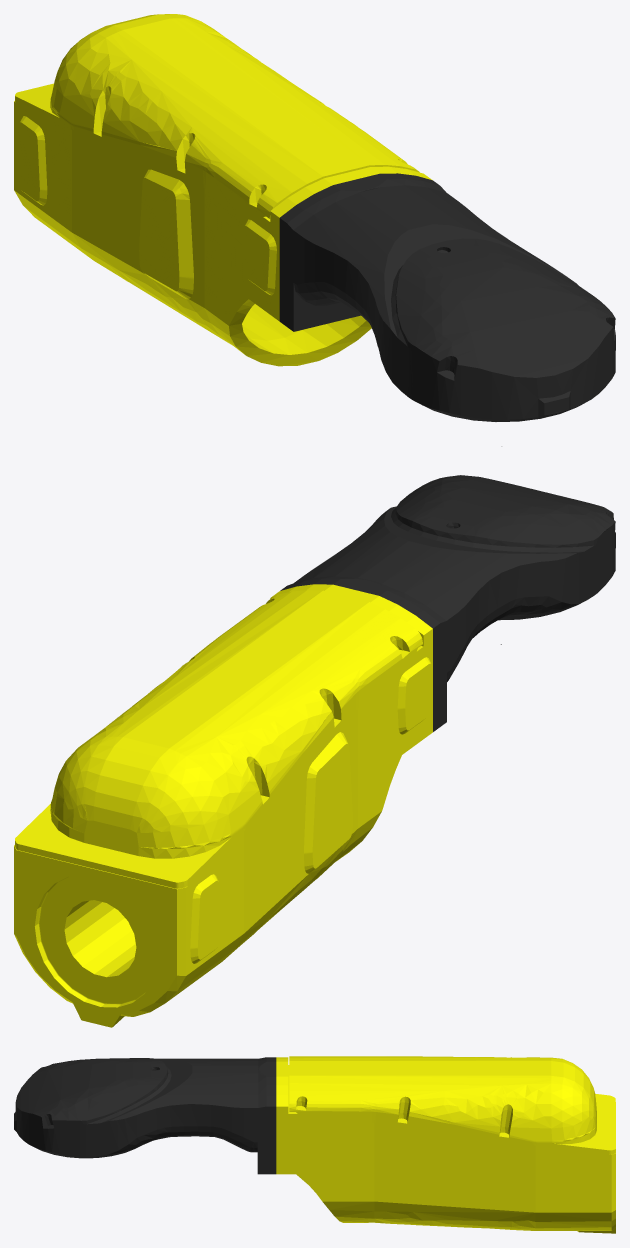
3 renders of one model, top to bottom at view 1: azimuth 30°, elevation 25°; view 2: azimuth 150°, elevation 25°; view 3: azimuth 270°, elevation 25°, orthographic. The views are drawn at different scales.
Parts seen in each view (by area): view 1: node; view 2: node; view 3: node.
Boxes of the visible parts, x1,y1,x2,y2 form: node: [14, 14, 615, 446]; node: [14, 475, 615, 1027]; node: [14, 1056, 615, 1233].
Bounding box in the file's own units: 158 × 198 × 675.
